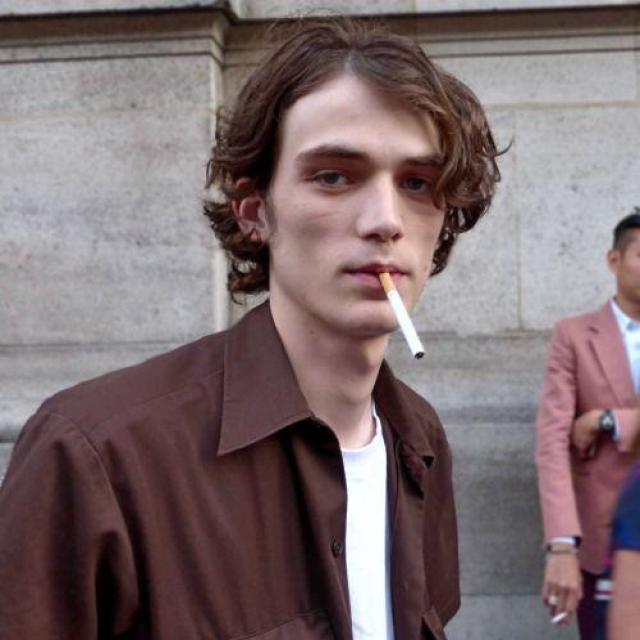cigarette: (370, 262, 457, 378), (545, 594, 572, 631)
